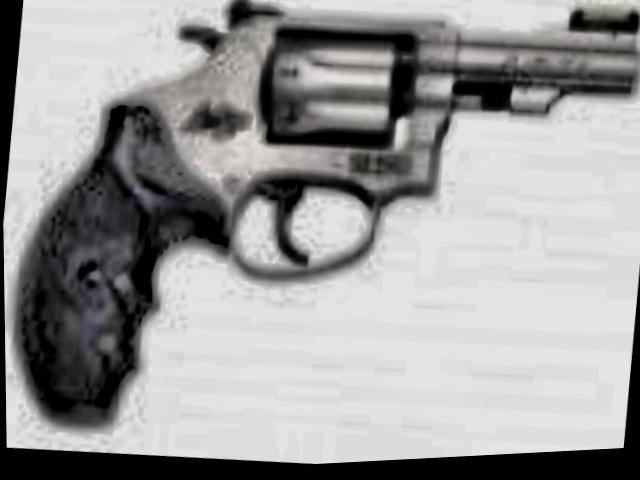pistol: (4, 0, 637, 473)
